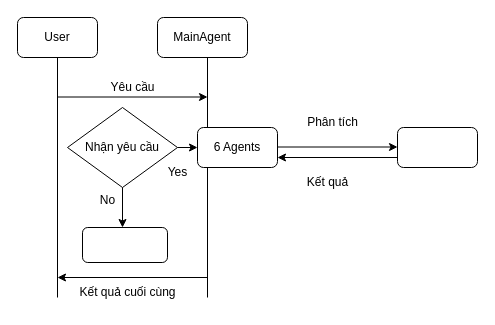
Image size: 495x325. Some labels were removed from this diagram. Each missing label, with the centre of its shape:
Gemini AI: point (437, 147)
Lỗi-> Fallback: point (125, 244)
